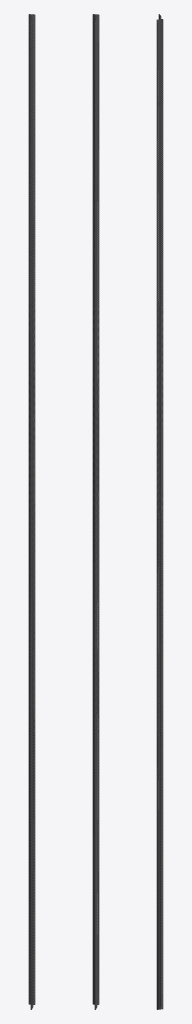
The model's file is SWORDLIGHT20_INST_CHAINC1M_LOD1_01.fbx.
3 renders of one model, left to right at view 1: azimuth 30°, elevation 25°; view 2: azimuth 210°, elevation 25°; view 3: azimuth 330°, elevation 25°, orthographic.
Visible parts, largest first — view 1: SWORDLIGHT20_INST_CHAINC1M_LOD1_01; view 2: SWORDLIGHT20_INST_CHAINC1M_LOD1_01; view 3: SWORDLIGHT20_INST_CHAINC1M_LOD1_01.
Boxes of the visible parts, bbox=[...] form: SWORDLIGHT20_INST_CHAINC1M_LOD1_01: bbox=[28, 14, 35, 1009]; SWORDLIGHT20_INST_CHAINC1M_LOD1_01: bbox=[92, 14, 99, 1009]; SWORDLIGHT20_INST_CHAINC1M_LOD1_01: bbox=[156, 14, 163, 1009].
Bounding box in the file's own units: 843 × 171406 × 843.
1 material, 1 textured.
